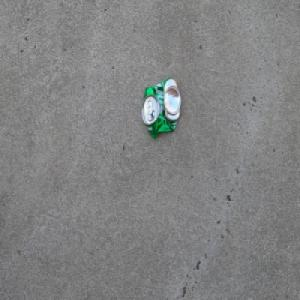SodaCan: (140, 76, 181, 139)
